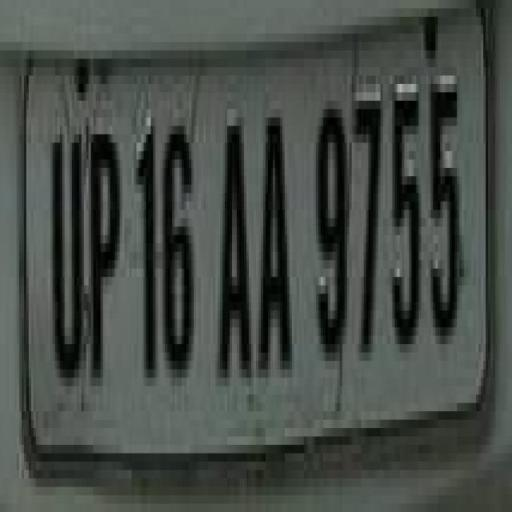number plate: (10, 24, 481, 486)
